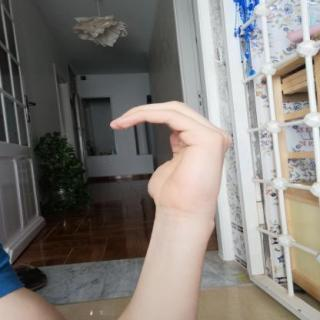HAA: (94, 91, 246, 225)
